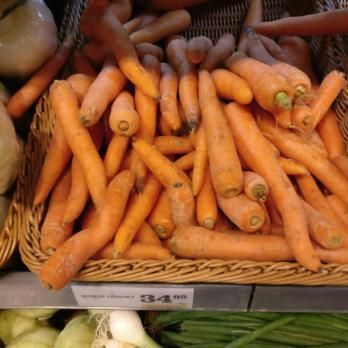Carrot: (52, 36, 317, 253), (312, 66, 348, 262), (243, 6, 348, 38), (79, 5, 194, 33)
